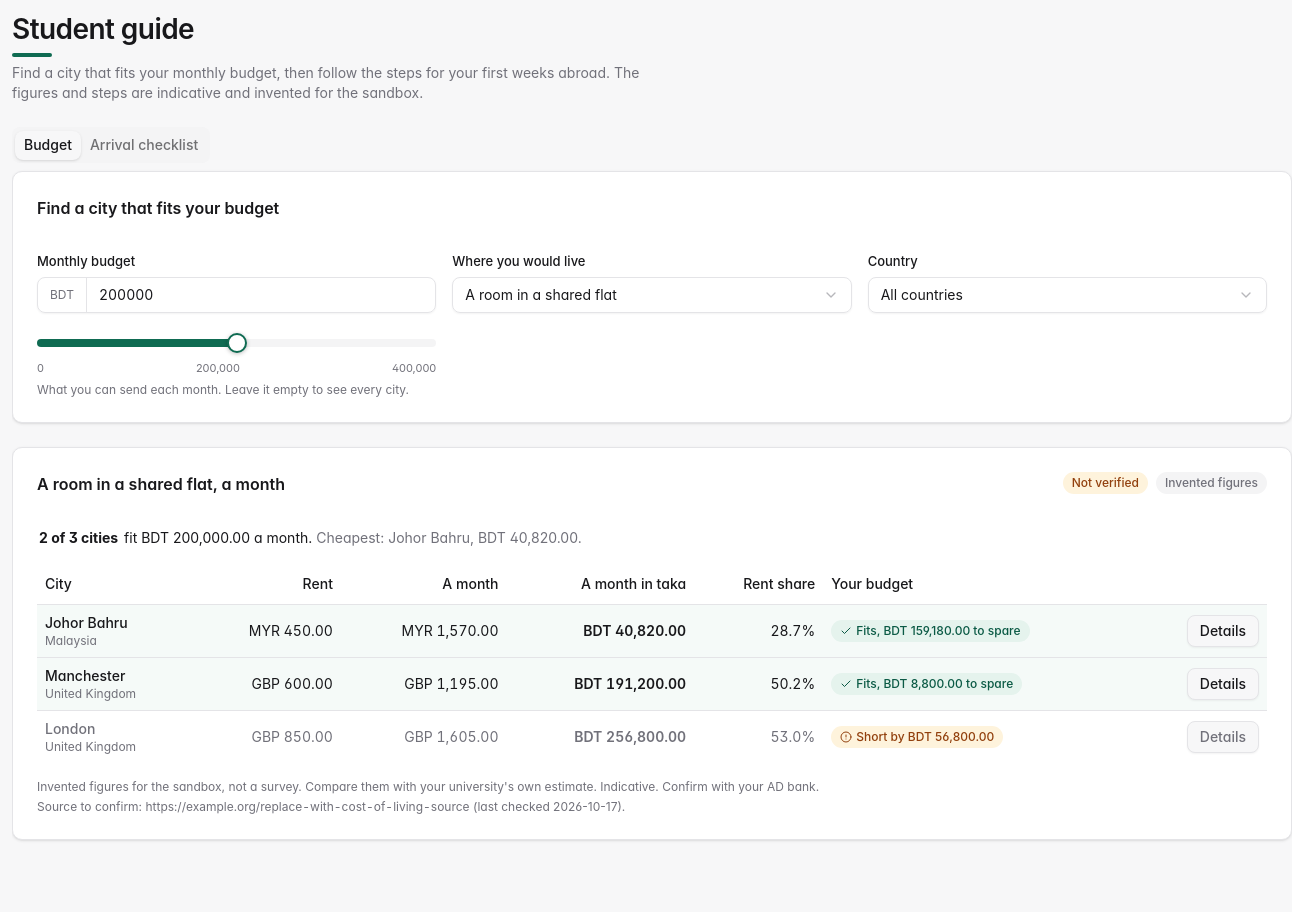
Test case: student guide: the budget › asks for a studio when the kind of housing is changed
Expected: the table is shown, [37,564,1267,763]
Click the dropdown named "Where you would live".
click(541, 294)  # box [452,277,852,313]
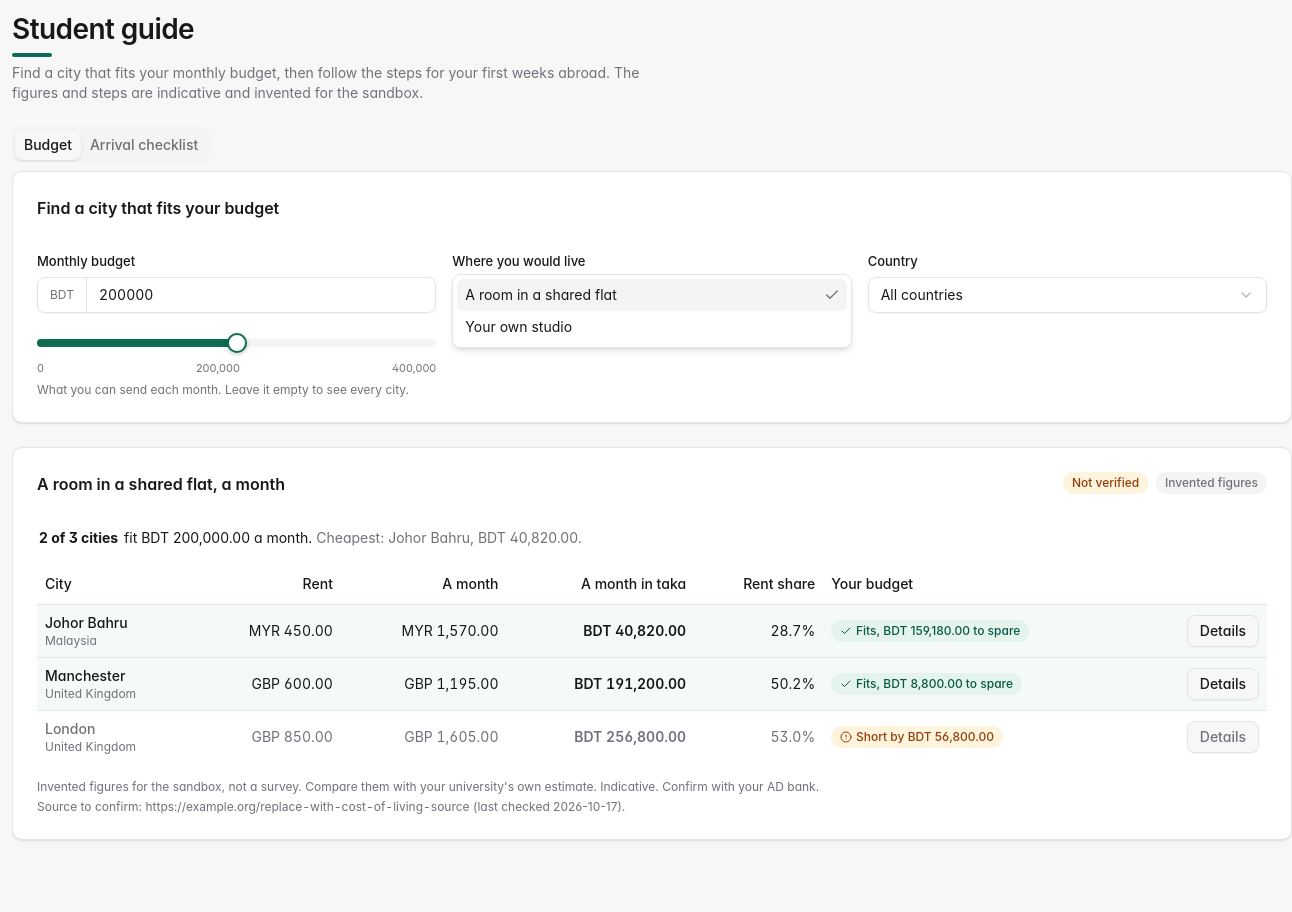
Click the option "Your own studio".
click(519, 326)  # box [465,318,572,335]
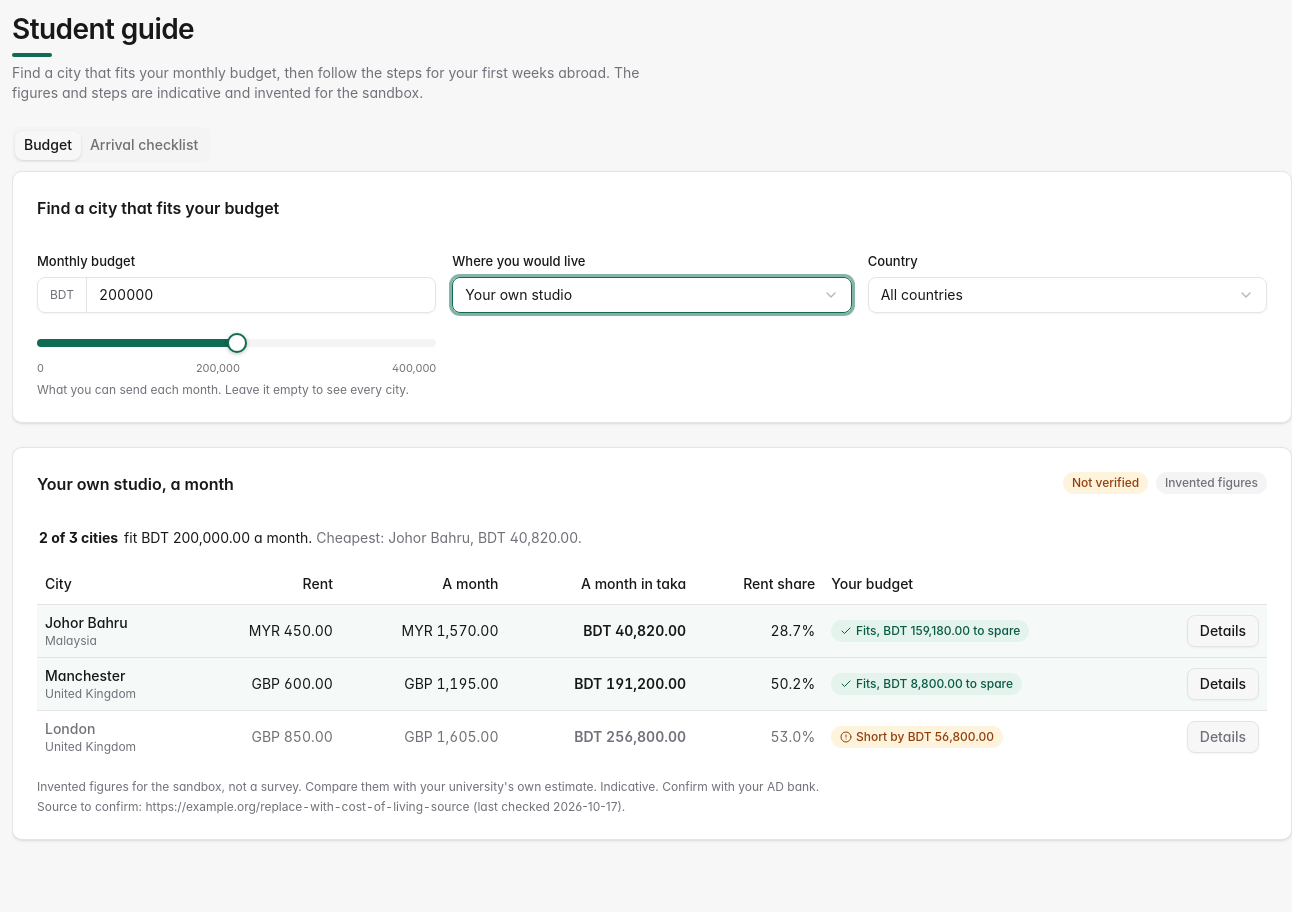
Now the text "Your own studio, a month" is shown, box [37,474,234,494]
